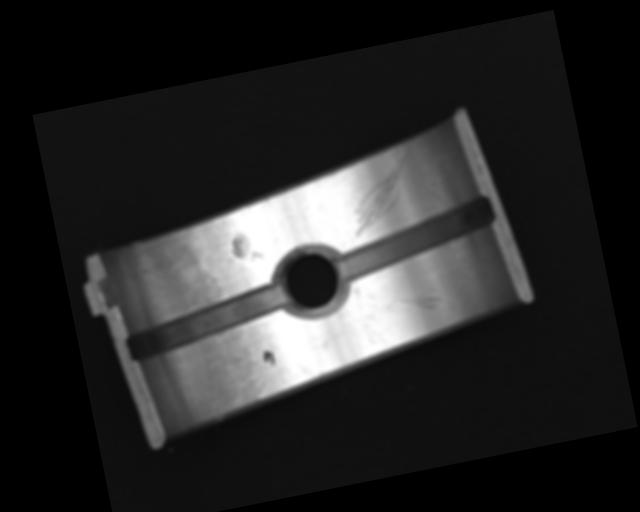blot: (261, 347, 276, 368)
bruise: (227, 229, 263, 265)
gap: (329, 196, 500, 282), (120, 284, 292, 363)
hole: (273, 242, 349, 323)
nick: (340, 149, 423, 238), (386, 290, 442, 317)
